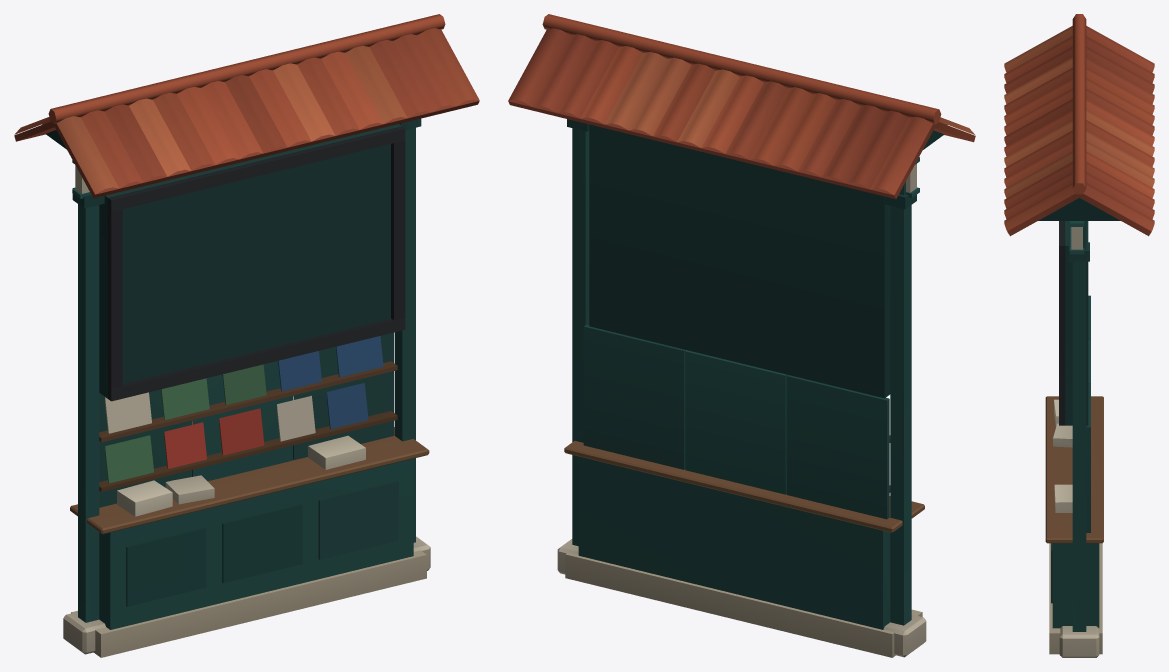
Rendered from plaza-terminal.glb.
The picture shows the model from 3 angles, left to right: view 1: azimuth 30°, elevation 25°; view 2: azimuth 150°, elevation 25°; view 3: azimuth 270°, elevation 25°; orthographic projection. The views are drawn at different scales.
Parts seen in each view (by area): view 1: terminal; view 2: terminal; view 3: terminal.
Part boxes in pixels (x1=…): terminal: x1=14, y1=14, x2=479, y2=657; terminal: x1=508, y1=14, x2=975, y2=657; terminal: x1=1004, y1=14, x2=1154, y2=657.
Bounding box in the file's own units: 3.44 × 4.59 × 1.29.
